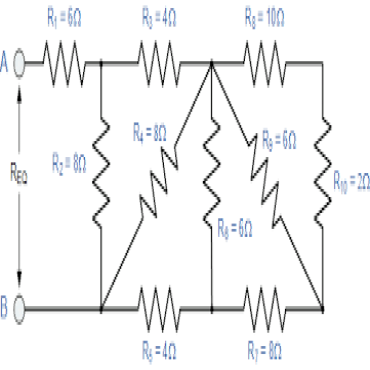Resistor: (51, 116, 111, 229), (314, 116, 370, 230), (202, 116, 253, 239), (247, 129, 298, 230), (132, 120, 181, 222), (243, 5, 288, 88), (138, 5, 182, 87), (43, 5, 86, 88), (136, 285, 182, 361), (241, 286, 287, 361)
